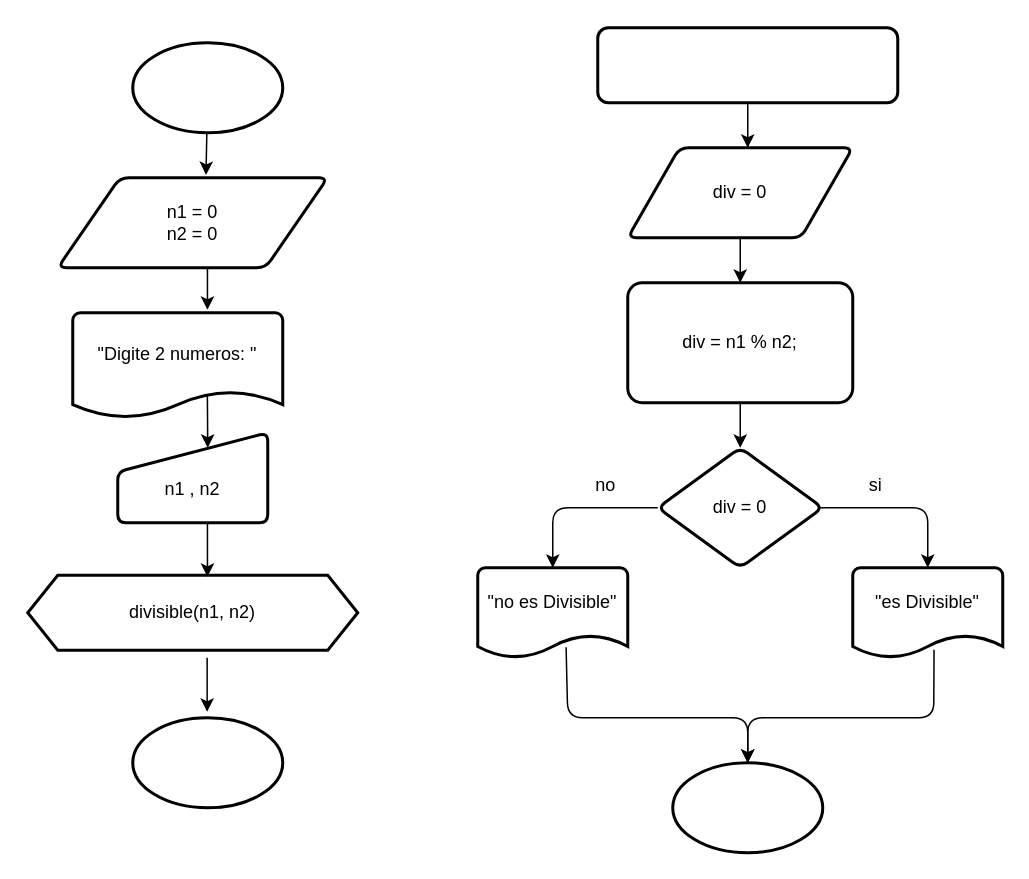
Some shapes in this 1029 by 879 pixel diagram are drawn without their labels. Here are the shapes that lost their labels. From the top down, the box of each, then its label:
(596, 26, 898, 104): divisible(n1 , n2)
(130, 40, 284, 134): start
(130, 716, 284, 808): End
(670, 760, 824, 854): return
